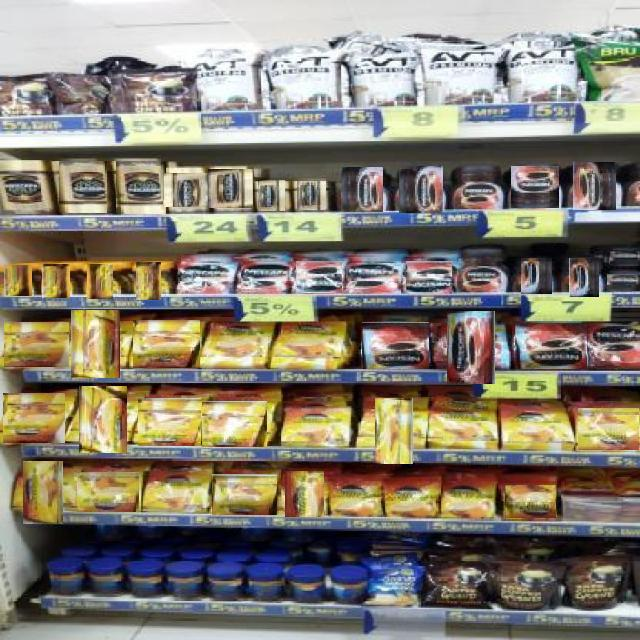Coffee: (447, 310, 495, 384), (515, 322, 587, 369), (71, 310, 120, 378), (132, 319, 200, 368), (78, 386, 127, 453), (271, 320, 338, 369), (201, 320, 269, 368), (3, 392, 65, 443), (362, 322, 429, 369), (137, 397, 201, 446), (202, 400, 267, 447), (3, 321, 69, 367), (282, 408, 350, 449), (115, 160, 166, 214), (503, 407, 569, 448), (212, 474, 277, 515), (428, 412, 496, 451), (0, 161, 51, 213), (578, 407, 639, 450), (143, 473, 208, 513), (23, 460, 63, 524), (58, 161, 107, 213), (77, 471, 139, 512), (376, 397, 413, 464), (591, 324, 639, 370), (572, 162, 616, 210), (511, 165, 559, 208), (460, 249, 506, 293), (400, 166, 443, 213), (386, 479, 437, 516), (443, 479, 494, 516), (456, 166, 500, 208), (342, 167, 383, 212), (285, 471, 324, 517), (332, 479, 380, 516), (504, 484, 556, 518), (208, 169, 253, 208), (179, 263, 231, 294), (405, 260, 452, 294), (295, 261, 342, 293), (164, 173, 208, 207), (349, 264, 398, 294), (240, 262, 286, 292), (520, 258, 552, 294), (569, 258, 599, 296), (42, 264, 70, 298), (136, 262, 161, 300), (87, 263, 113, 299), (257, 181, 285, 211), (296, 182, 326, 210), (4, 266, 32, 296), (606, 274, 640, 291), (609, 249, 640, 266)
